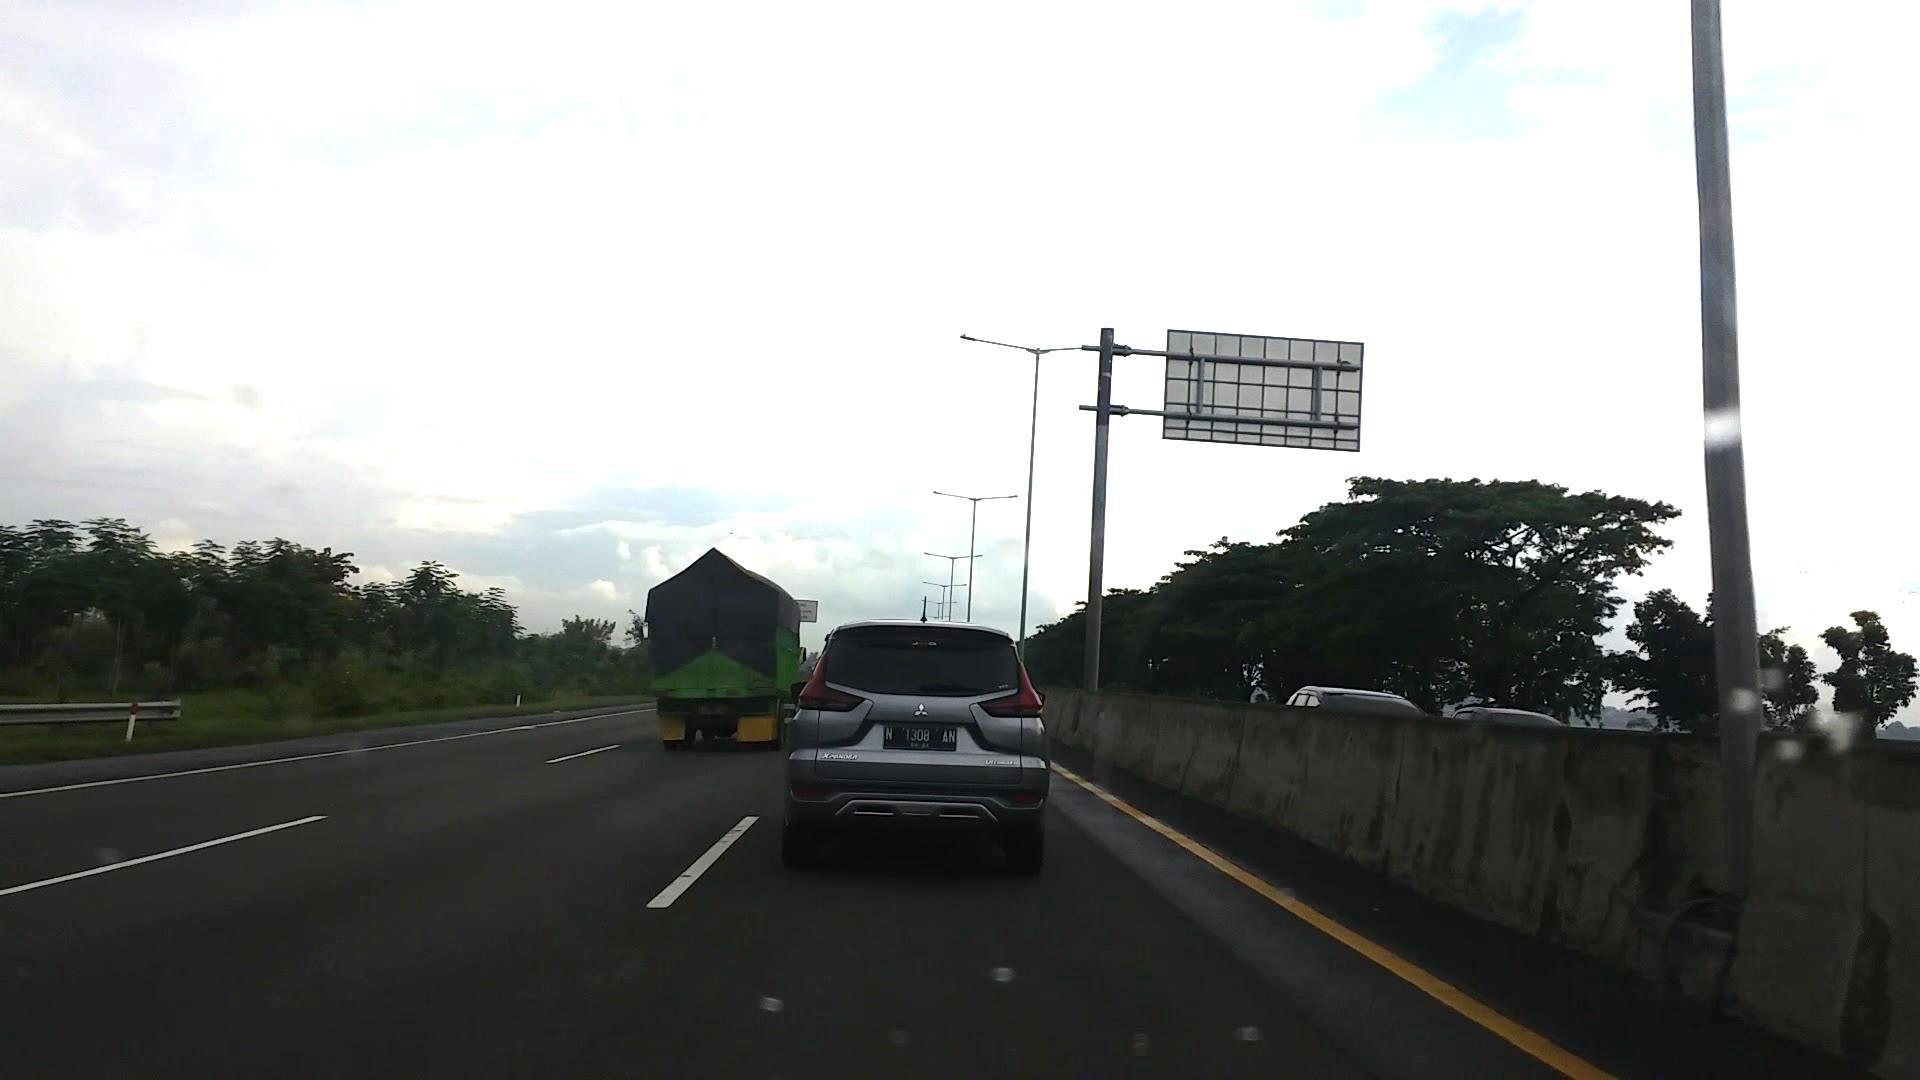plate_positive: (884, 723, 956, 752)
